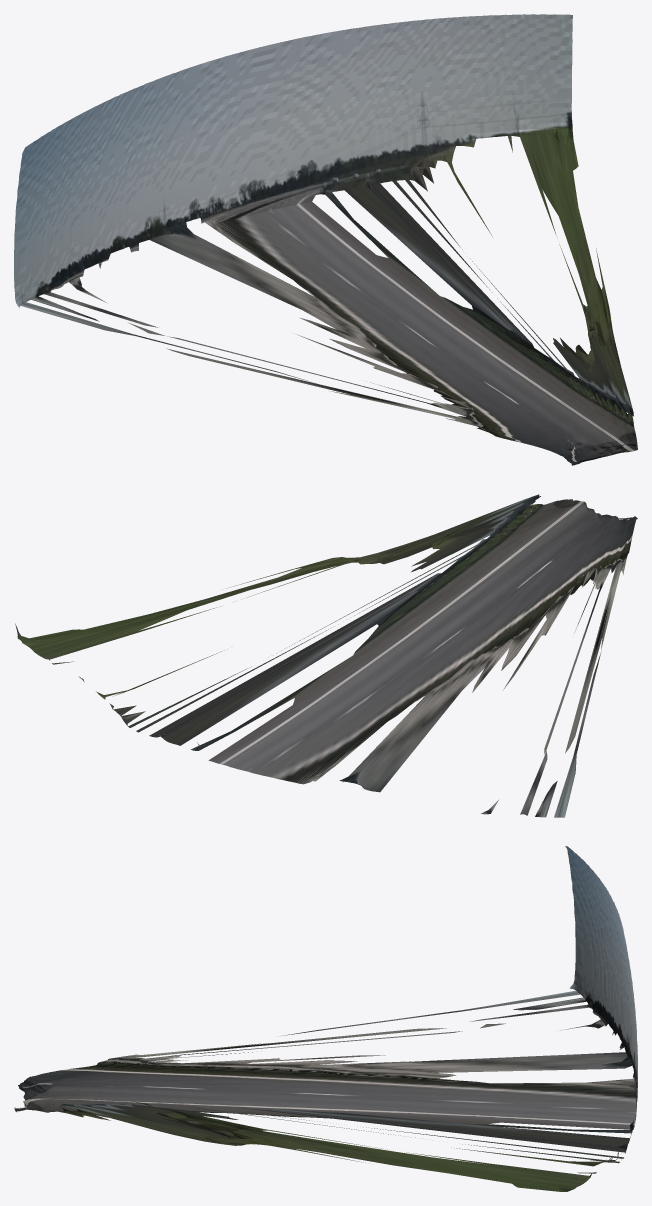
3 renders of one model, top to bottom at view 1: azimuth 30°, elevation 25°; view 2: azimuth 150°, elevation 25°; view 3: azimuth 270°, elevation 25°, orthographic. The views are drawn at different scales.
Visible parts, largest first — view 1: defaultobject; view 2: defaultobject; view 3: defaultobject.
Part boxes in pixels (bbox=[...]): defaultobject: bbox=[14, 14, 637, 465]; defaultobject: bbox=[15, 494, 637, 817]; defaultobject: bbox=[14, 846, 637, 1191].
Bounding box in the file's own units: 41.14 × 12.77 × 44.74.
1 material, 1 textured.
